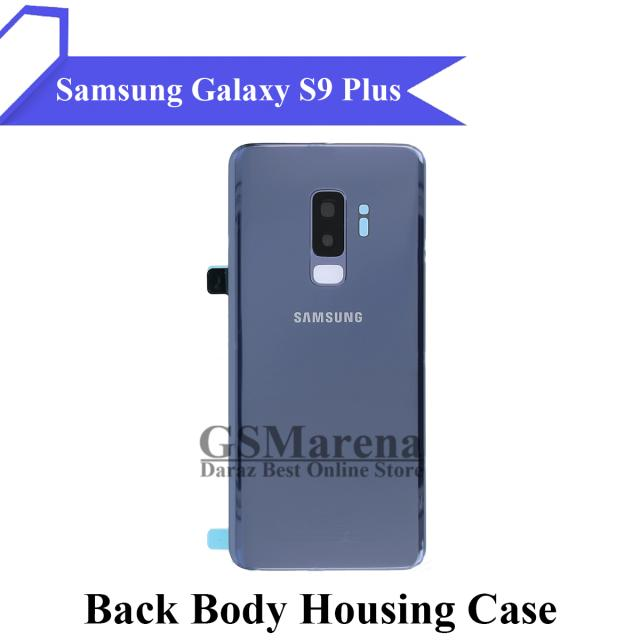mobile phone: (223, 141, 427, 571)
